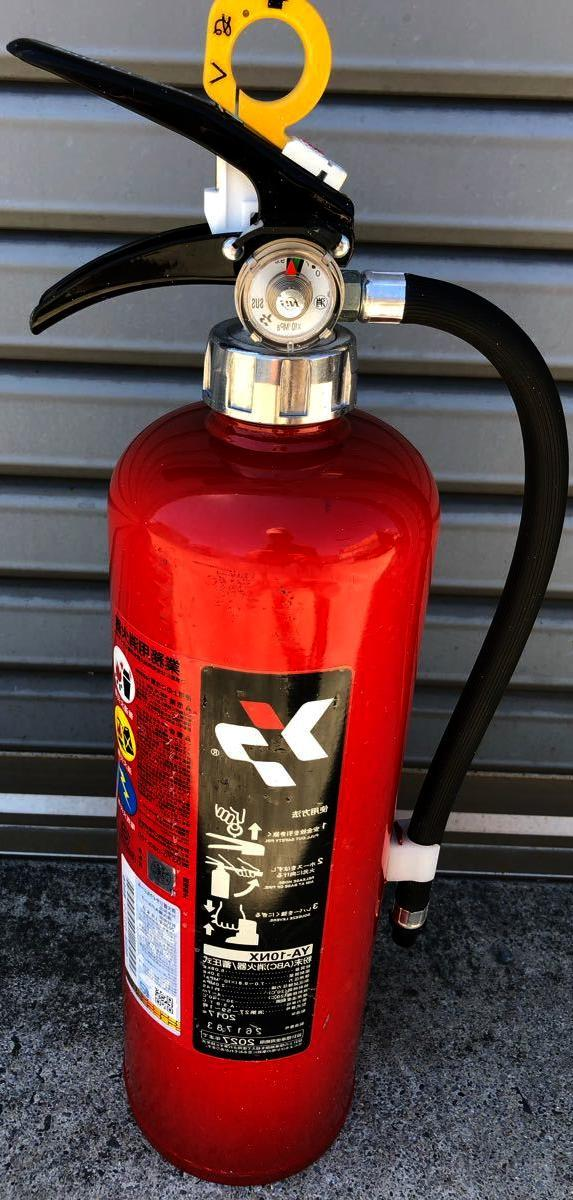Fire Extinguisher: (0, 7, 573, 1200)
